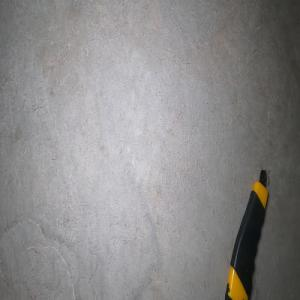Cutter: (224, 168, 268, 300)
